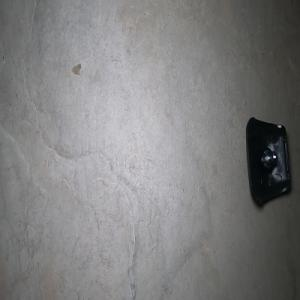LuggagePart: (245, 115, 292, 206)
